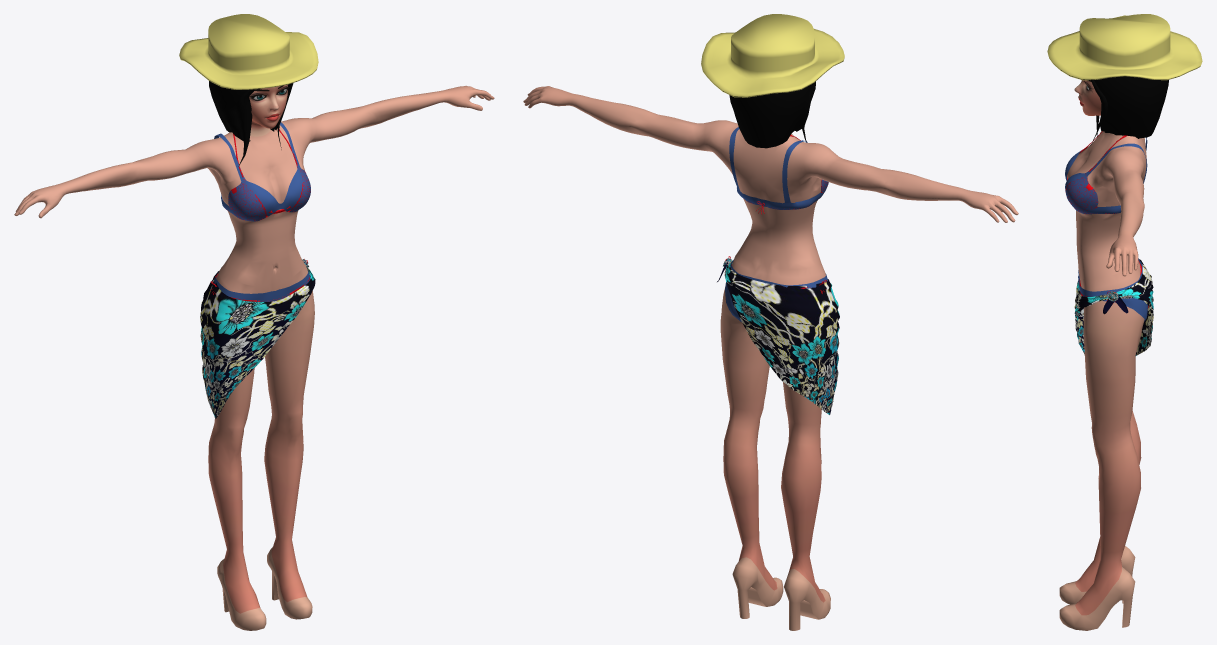
Rendered from all.fbx.
3 renders of one model, left to right at view 1: azimuth 30°, elevation 25°; view 2: azimuth 150°, elevation 25°; view 3: azimuth 270°, elevation 25°, orthographic. The views are drawn at different scales.
Visible parts, largest first — view 1: body, Pareo, Hat, Bra1, Hair, Underware1, Bra2; view 2: body, Pareo, Hat, Hair, Bra1; view 3: body, Hat, Hair, Pareo, Bra1, Underware1, Bra2.
Part boxes in pixels (x1,y1,x2,y2): body: [14, 85, 494, 630]; Pareo: [200, 259, 315, 418]; Hat: [179, 14, 318, 89]; Bra1: [214, 122, 310, 221]; Hair: [209, 81, 293, 166]; Underware1: [214, 269, 310, 301]; Bra2: [227, 128, 310, 220]; body: [523, 86, 1018, 630]; Pareo: [717, 258, 839, 414]; Hat: [701, 14, 844, 97]; Hair: [729, 81, 815, 148]; Bra1: [729, 127, 828, 209]; body: [1059, 80, 1146, 630]; Hat: [1047, 14, 1202, 80]; Hair: [1090, 76, 1168, 145]; Pareo: [1074, 259, 1153, 355]; Bra1: [1065, 135, 1147, 214]; Underware1: [1078, 258, 1147, 321]; Bra2: [1065, 131, 1127, 213].
Size of the model in its own units: 125 by 144 by 34.72.
